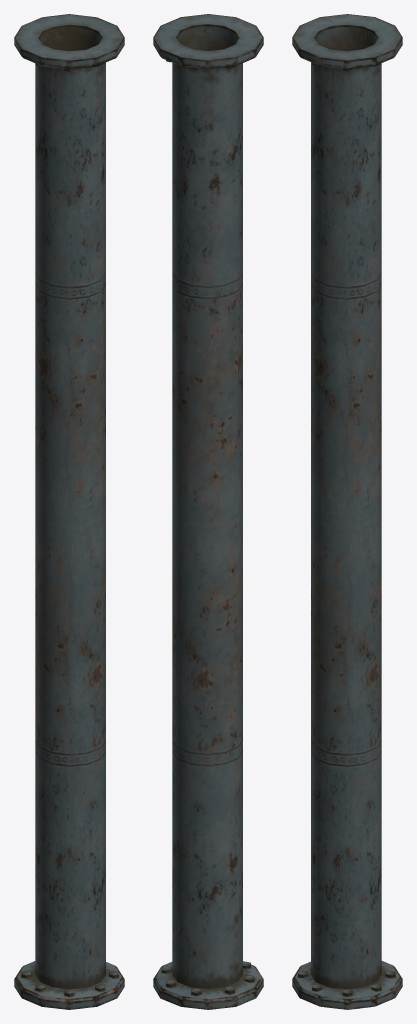
Rendered from modular_industrial_pipes_01_pipe02.glb.
3 views of the same model, side by side, from view 1: azimuth 90°, elevation 25°; view 2: azimuth 210°, elevation 25°; view 3: azimuth 270°, elevation 25° (orthographic).
Parts seen in each view (by area): view 1: modular_industrial_pipes_01_pipe02; view 2: modular_industrial_pipes_01_pipe02; view 3: modular_industrial_pipes_01_pipe02.
Part boxes in pixels (x1,y1,x2,y2): modular_industrial_pipes_01_pipe02: [14, 14, 124, 1009]; modular_industrial_pipes_01_pipe02: [153, 14, 263, 1009]; modular_industrial_pipes_01_pipe02: [292, 14, 402, 1009].
Bounding box in the file's own units: 0.2071 × 1.95 × 0.2063.
1 material, 1 textured.
